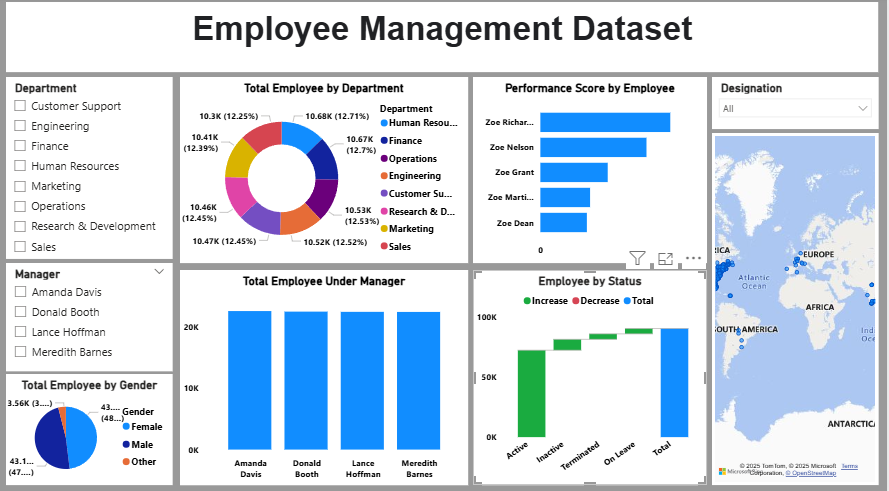

The dashboard page shown, as its layout file describes it:
{"tool":"powerbi","page":{"name":"Page 1","canvas":[1280,720],"ordinal":0},"visuals":[{"type":"textbox","box":[10.1,6.7,1256.5,100.8],"z":0},{"type":"slicer","fields":{"Values":["Department.department"]},"box":[10.1,115.2,240.5,262.1],"z":1000},{"type":"slicer","fields":{"Values":["Designation.designation"]},"box":[1026.7,115.2,240.5,74.9],"z":2000},{"type":"slicer","fields":{"Values":["Manager.manager_name"]},"box":[10.1,383,240.5,155.5],"z":3000},{"type":"map","fields":{"Category":["Employee.address"]},"box":[1026.7,195.8,240.5,506.9],"z":4000},{"type":"donutChart","title":"Total Employee by Department","fields":{"Category":["Department.department"],"Y":["Count(Employee.fullname)"]},"box":[260.6,115.2,414.7,267.8],"z":4001},{"type":"pieChart","title":"Total Employee by Gender","fields":{"Category":["Employee.gender"],"Y":["CountNonNull(Employee.fullname)"]},"box":[10.1,542.9,240.5,159.8],"z":4002},{"type":"clusteredBarChart","title":"Performance Score by Employee","fields":{"Y":["Sum(Employee.performance_score)"],"Category":["Employee.fullname"]},"box":[682.6,115.2,337,267.8],"z":4003},{"type":"clusteredColumnChart","title":"Total Employee Under Manager","fields":{"Category":["Manager.manager_name"],"Y":["CountNonNull(Employee.fullname)"]},"box":[260.6,393.1,414.7,309.6],"z":4004},{"type":"waterfallChart","title":"Employee by Status","fields":{"Category":["Employee.status"],"Y":["CountNonNull(Employee.fullname)"]},"box":[683,393,337,310],"z":4005}]}

Visuals, with their boxes in screenshot pixels (x1, y1, x2, y2), scaled from the page's 1280x720 canvas onto the 889x491 screenshot:
textbox: x1=7, y1=5, x2=880, y2=73
slicer - Department.department: x1=7, y1=79, x2=174, y2=257
slicer - Designation.designation: x1=713, y1=79, x2=880, y2=130
slicer - Manager.manager_name: x1=7, y1=261, x2=174, y2=367
map - Employee.address: x1=713, y1=134, x2=880, y2=479
"Total Employee by Department" donutChart: x1=181, y1=79, x2=469, y2=261
"Total Employee by Gender" pieChart: x1=7, y1=370, x2=174, y2=479
"Performance Score by Employee" clusteredBarChart: x1=474, y1=79, x2=708, y2=261
"Total Employee Under Manager" clusteredColumnChart: x1=181, y1=268, x2=469, y2=479
"Employee by Status" waterfallChart: x1=474, y1=268, x2=708, y2=479
